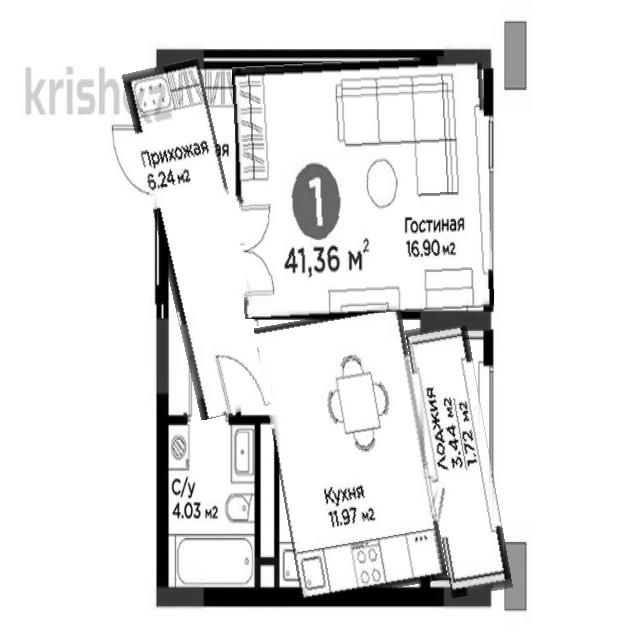balcony: (416, 322, 502, 597)
bathroom: (162, 422, 259, 595)
hallway: (142, 59, 258, 418)
kitchen: (266, 309, 436, 599)
living_room: (235, 57, 491, 316)
